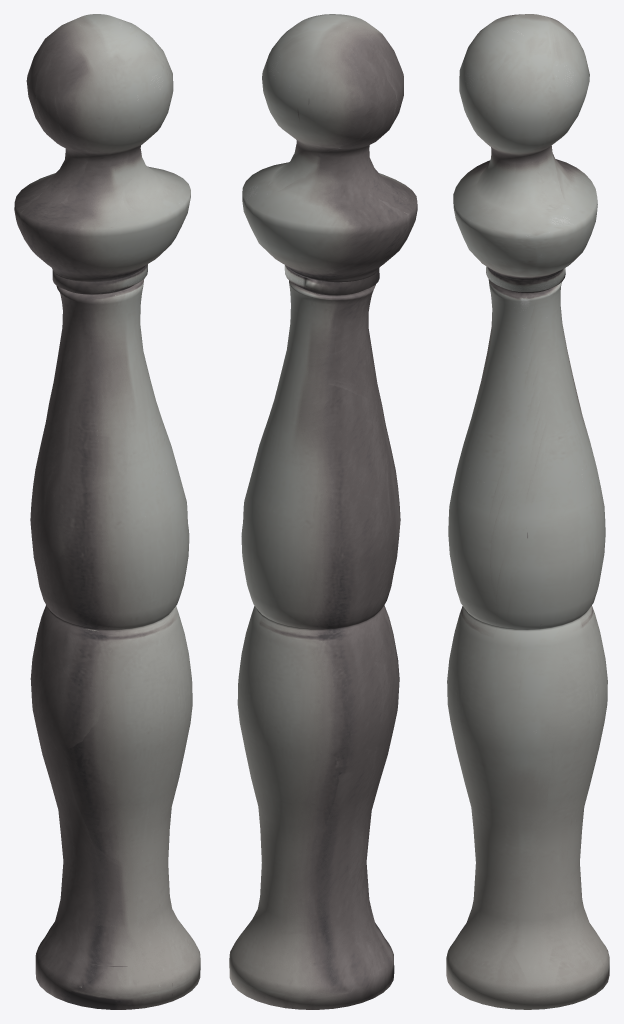
File: SCACCO.obj
3 renders of one model, left to right at view 1: azimuth 30°, elevation 25°; view 2: azimuth 150°, elevation 25°; view 3: azimuth 270°, elevation 25°, orthographic.
Parts seen in each view (by area): view 1: scacco_1_Cerchio.002; view 2: scacco_1_Cerchio.002; view 3: scacco_1_Cerchio.002.
Part boxes in pixels (left/top/right/bottom): scacco_1_Cerchio.002: left=14, top=14, right=200, bottom=1009; scacco_1_Cerchio.002: left=229, top=14, right=417, bottom=1009; scacco_1_Cerchio.002: left=446, top=14, right=609, bottom=1009.
Size of the model in its own units: 0.6489 by 3.52 by 0.5512.
